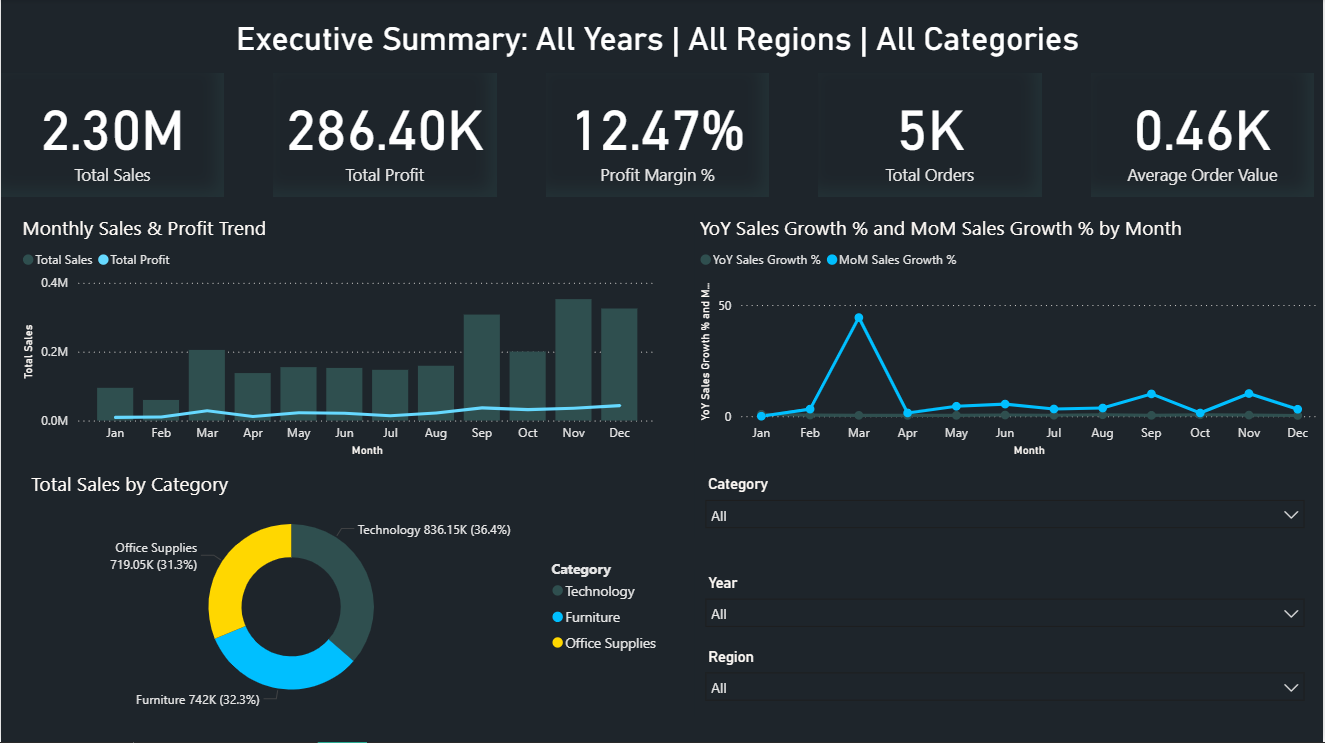

Layout of this report page (visuals, bound fields, positions):
{"tool":"powerbi","page":{"name":"Executive Summary","canvas":[1280,720],"ordinal":0},"visuals":[{"type":"card","fields":{"Values":["Measures (2).Dynamic Title"]},"box":[0,0,1272,72],"z":0},{"type":"card","fields":{"Values":["Measures (2).Total Sales"]},"box":[0,72,216,120],"z":1000},{"type":"card","fields":{"Values":["Measures (2).Total Profit"]},"box":[264,72,216,120],"z":2000},{"type":"card","fields":{"Values":["Measures (2).Profit Margin %"]},"box":[528,72,216,120],"z":3000},{"type":"card","fields":{"Values":["Measures (2).Total Orders"]},"box":[792,72,216,120],"z":4000},{"type":"card","fields":{"Values":["Measures (2).Average Order Value"]},"box":[1056,72,216,120],"z":5000},{"type":"lineClusteredColumnComboChart","title":"Monthly Sales & Profit Trend","fields":{"Y2":["Measures (2).Total Profit"],"Y":["Measures (2).Total Sales"],"Category":["Date.Month"]},"box":[16,208,624,240],"z":6000},{"type":"lineChart","fields":{"Category":["Date.Month"],"Y":["Measures (2).YoY Sales Growth %","Measures (2).MoM Sales Growth %"]},"box":[672,208,608,240],"z":7000},{"type":"donutChart","fields":{"Y":["Measures (2).Total Sales"],"Category":["superstore_cleaned.Category"]},"box":[24,456,624,240],"z":8000},{"type":"slicer","fields":{"Values":["superstore_cleaned.Category"]},"box":[672,456,600,72],"z":10000},{"type":"slicer","fields":{"Values":["Date.Year"]},"box":[672,552,600,72],"z":11000},{"type":"slicer","fields":{"Values":["superstore_cleaned.Region"]},"box":[672,624,600,72],"z":12000}]}

Visuals, with their boxes in screenshot pixels (x1, y1, x2, y2), scaled from the page's 1280x720 canvas onto the 1325x743 screenshot:
card - Measures (2).Dynamic Title: BBox(0, 0, 1317, 74)
card - Measures (2).Total Sales: BBox(0, 74, 224, 198)
card - Measures (2).Total Profit: BBox(273, 74, 497, 198)
card - Measures (2).Profit Margin %: BBox(547, 74, 770, 198)
card - Measures (2).Total Orders: BBox(820, 74, 1043, 198)
card - Measures (2).Average Order Value: BBox(1093, 74, 1317, 198)
"Monthly Sales & Profit Trend" lineClusteredColumnComboChart: BBox(17, 215, 662, 462)
lineChart - Date.Month x Measures (2).YoY Sales Growth %: BBox(696, 215, 1324, 462)
donutChart - Measures (2).Total Sales x superstore_cleaned.Category: BBox(25, 471, 671, 718)
slicer - superstore_cleaned.Category: BBox(696, 471, 1317, 545)
slicer - Date.Year: BBox(696, 570, 1317, 644)
slicer - superstore_cleaned.Region: BBox(696, 644, 1317, 718)
